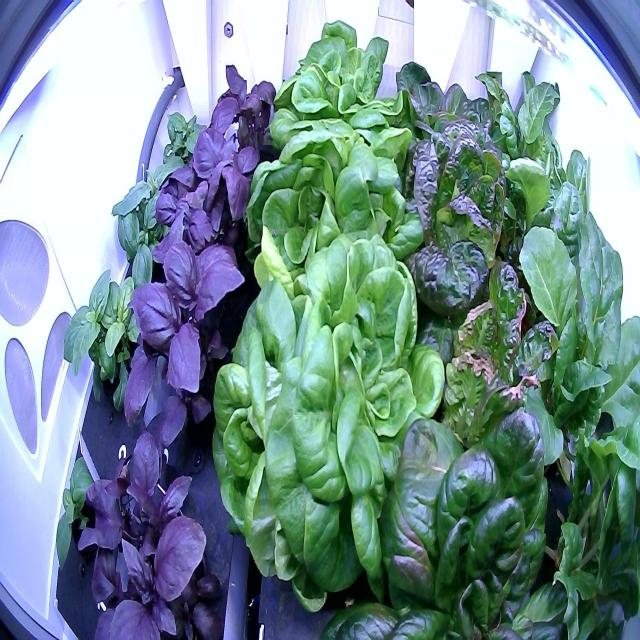Ready: (198, 235, 454, 620), (374, 392, 580, 640), (226, 123, 435, 350), (412, 231, 570, 510), (402, 103, 540, 345), (258, 12, 422, 195), (388, 51, 502, 226)
